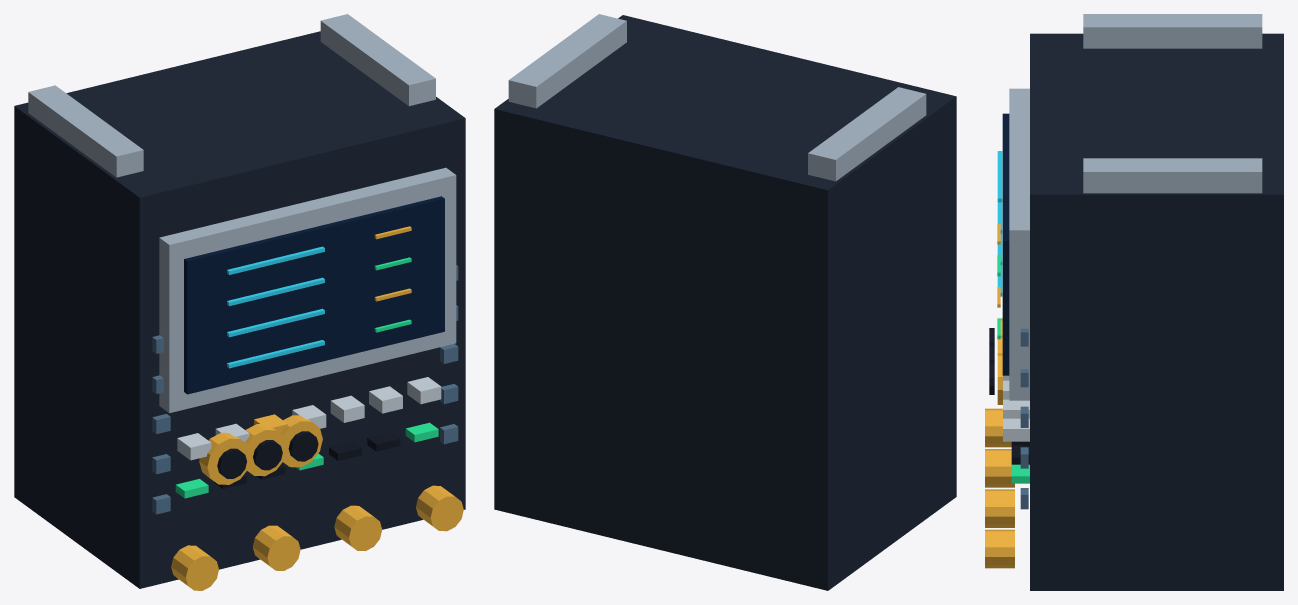
File: 62_L85_PressureLeakQualificationController.fbx
3 views of the same model, side by side, from view 1: azimuth 30°, elevation 25°; view 2: azimuth 150°, elevation 25°; view 3: azimuth 270°, elevation 25° (orthographic). The views are drawn at different scales.
Visible parts, largest first — view 1: L85_PressureLeakQualificationController, L85_PressureLeakQualificationController_Part_0009, L85_PressureLeakQualificationController_Part_0011, L85_PressureLeakQualificationController_Part_0013, L85_PressureLeakQualificationController_Part_0014, L85_PressureLeakQualificationController_Part_0012, L85_PressureLeakQualificationController_Part_0010; view 2: L85_PressureLeakQualificationController; view 3: L85_PressureLeakQualificationController.
Boxes of the visible parts, <box> form: L85_PressureLeakQualificationController: <box>14,14,465,590</box>; L85_PressureLeakQualificationController_Part_0009: <box>199,432,251,484</box>; L85_PressureLeakQualificationController_Part_0011: <box>244,424,287,476</box>; L85_PressureLeakQualificationController_Part_0013: <box>280,415,322,467</box>; L85_PressureLeakQualificationController_Part_0014: <box>288,431,318,461</box>; L85_PressureLeakQualificationController_Part_0012: <box>253,440,282,470</box>; L85_PressureLeakQualificationController_Part_0010: <box>217,448,246,478</box>; L85_PressureLeakQualificationController: <box>494,14,956,590</box>; L85_PressureLeakQualificationController: <box>985,14,1283,590</box>.
Bounding box in the file's own units: 95.88 × 116 × 75.2.
